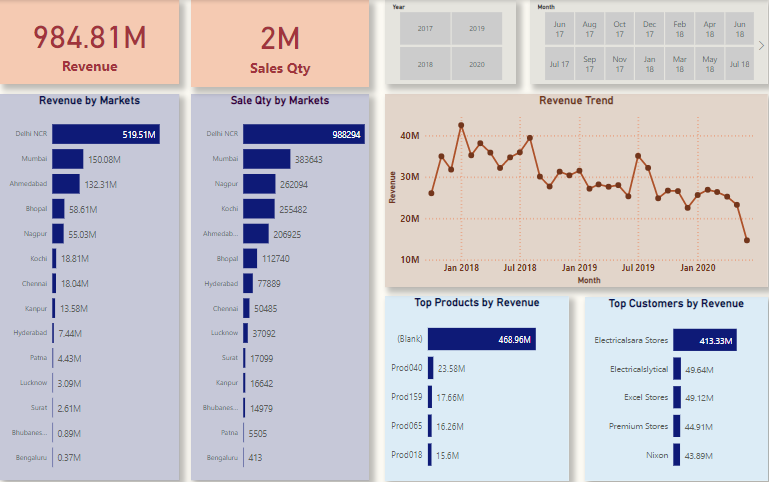

What the dashboard file says about the page in this screenshot:
{"tool":"powerbi","page":{"name":"Base Analysis","canvas":[1350,850],"ordinal":0},"visuals":[{"type":"card","fields":{"Values":["BaseMeasures.Revenue"]},"box":[12.1,0,308.6,144.8],"z":0},{"type":"card","fields":{"Values":["BaseMeasures.Sales Qty"]},"box":[341.4,0,306.9,150],"z":1000},{"type":"barChart","title":"Revenue by Markets","fields":{"Y":["BaseMeasures.Revenue"],"Category":["sales markets.markets_name"]},"box":[12.1,162.1,196.6,665.5],"z":2000},{"type":"barChart","title":"Sale Qty by Markets","fields":{"Y":["BaseMeasures.Sales Qty"],"Category":["sales markets.markets_name"]},"box":[451.7,162.1,196.6,665.5],"z":3000},{"type":"slicer","fields":{"Values":["sales date.year"]},"box":[675.9,0,225.9,144.8],"z":4000},{"type":"slicer","fields":{"Values":["sales date.cy_date"]},"box":[925.9,0,410.3,144.8],"z":5000},{"type":"barChart","title":"Top Customers by Revenue","fields":{"Category":["sales customers.custmer_name"],"Y":["BaseMeasures.Revenue"]},"box":[1020.7,512.1,315.5,317.2],"z":6000},{"type":"barChart","title":"Top Products by Revenue","fields":{"Category":["sales products.product_code"],"Y":["BaseMeasures.Revenue"]},"box":[675.9,510.3,317.2,319],"z":7000},{"type":"lineChart","title":"Revenue Trend","fields":{"Y":["BaseMeasures.Revenue"],"Category":["sales date.cy_date"]},"box":[675.9,162.1,660.3,332.8],"z":8000},{"type":"barChart","title":"Revenue Contribution % by Markets","fields":{"Y":["BaseMeasures.Revenue Contribution Percentage"],"Category":["sales markets.markets_name"]},"box":[232.8,162.1,196.6,665.5],"z":10000}]}

Visuals, with their boxes in screenshot pixels (x1, y1, x2, y2), scaled from the page's 1350x850 canvas onto the 769x482 screenshot:
card - BaseMeasures.Revenue: <box>7,0,183,82</box>
card - BaseMeasures.Sales Qty: <box>194,0,369,85</box>
"Revenue by Markets" barChart: <box>7,92,119,469</box>
"Sale Qty by Markets" barChart: <box>257,92,369,469</box>
slicer - sales date.year: <box>385,0,514,82</box>
slicer - sales date.cy_date: <box>527,0,761,82</box>
"Top Customers by Revenue" barChart: <box>581,290,761,470</box>
"Top Products by Revenue" barChart: <box>385,289,566,470</box>
"Revenue Trend" lineChart: <box>385,92,761,281</box>
"Revenue Contribution % by Markets" barChart: <box>133,92,245,469</box>
